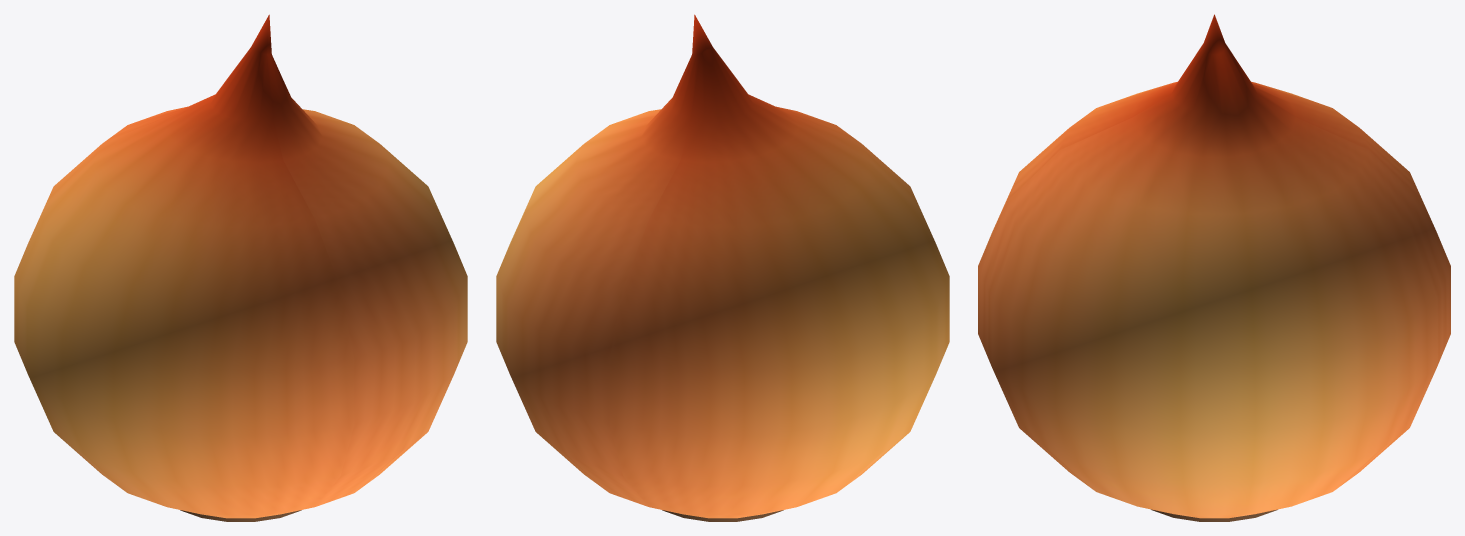
The model's file is Onion.FBX.
3 renders of one model, left to right at view 1: azimuth 30°, elevation 25°; view 2: azimuth 150°, elevation 25°; view 3: azimuth 270°, elevation 25°, orthographic. The views are drawn at different scales.
Visible parts, largest first — view 1: Onion; view 2: Onion; view 3: Onion.
Part boxes in pixels (box(x1,y1,x2,y2)): Onion: box(14, 14, 467, 521); Onion: box(496, 14, 949, 521); Onion: box(978, 14, 1450, 521).
Bounding box in the file's own units: 124 × 144 × 126.
